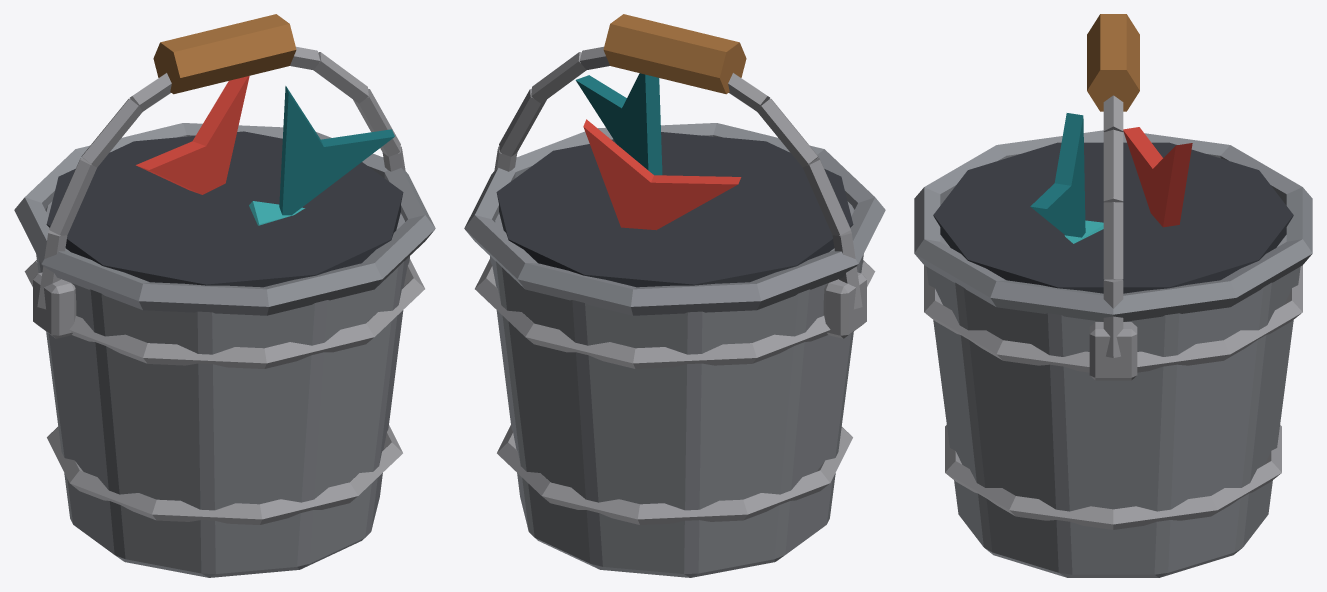
File: bucket_fish.glb
3 views of the same model, side by side, from view 1: azimuth 30°, elevation 25°; view 2: azimuth 150°, elevation 25°; view 3: azimuth 270°, elevation 25° (orthographic).
Parts seen in each view (by area): view 1: bucket_fish; view 2: bucket_fish; view 3: bucket_fish.
Part boxes in pixels (box(x1,y1,x2,y2)): bucket_fish: box(14, 14, 435, 577); bucket_fish: box(464, 14, 885, 577); bucket_fish: box(914, 14, 1312, 577).
Bounding box in the file's own units: 0.4517 × 0.5542 × 0.4204.
